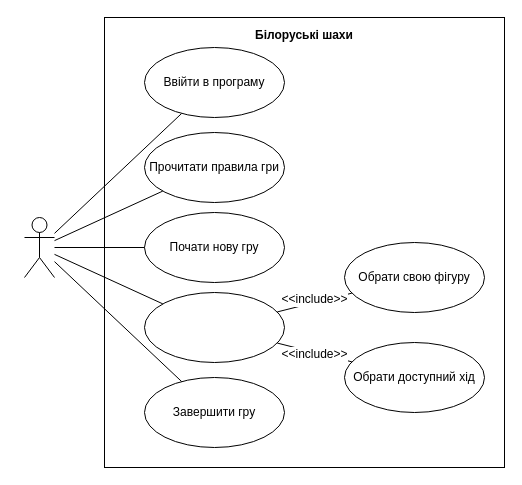
Image size: 522x485. Some labels were removed from this diagram. The shapes that lost their labels are listed below. From the top down, each one's centre as x and y in pixels, then its label:
At [39,247]: "Гравець".
At [214,327]: "Виконати хід".
